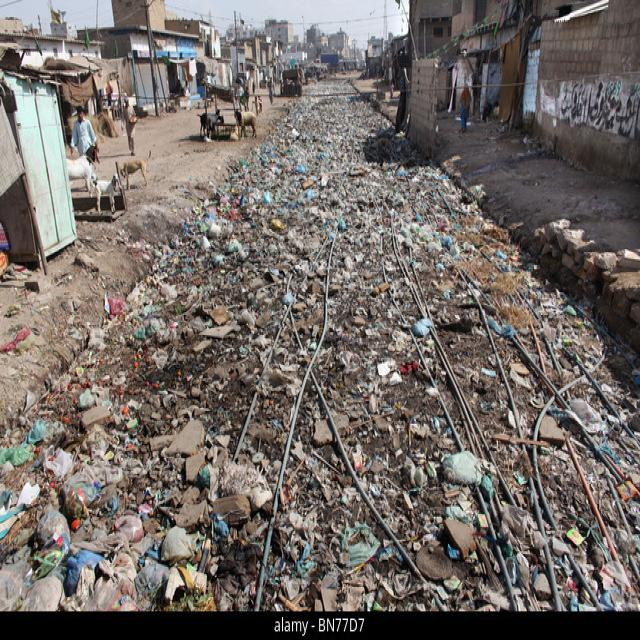trash: (124, 269, 356, 613), (361, 252, 530, 570), (267, 83, 349, 284)
